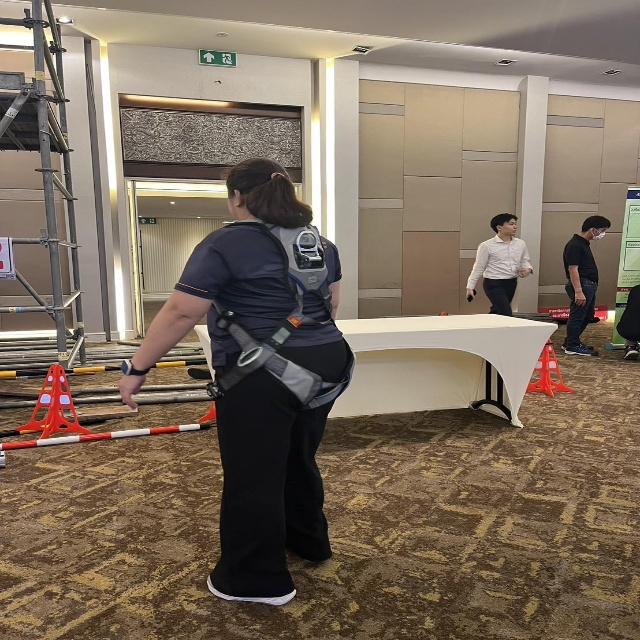Arnes_seguridad: (189, 221, 358, 421)
